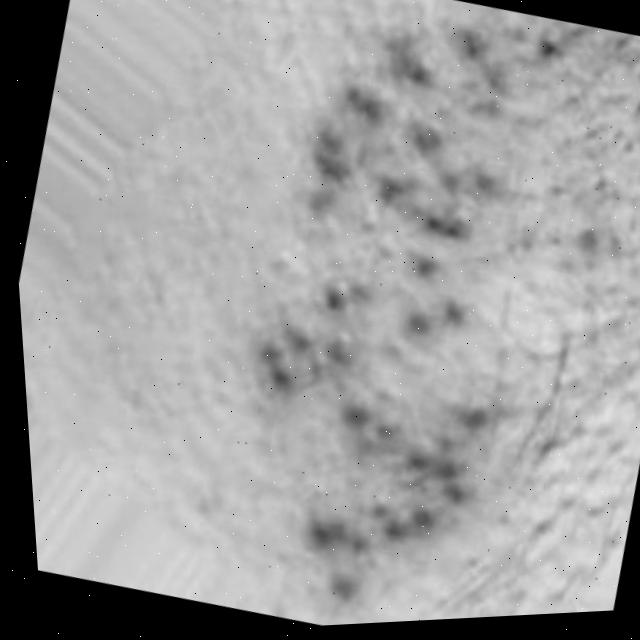Shingles: (183, 0, 581, 614)
